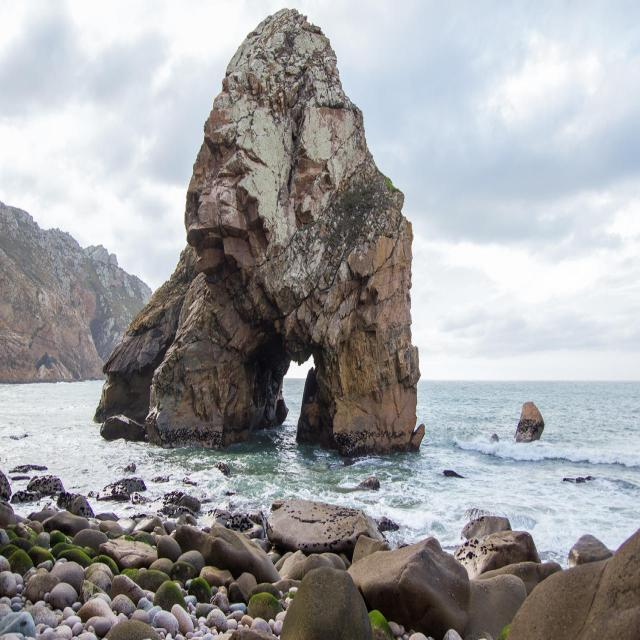reef: (90, 8, 425, 450)
